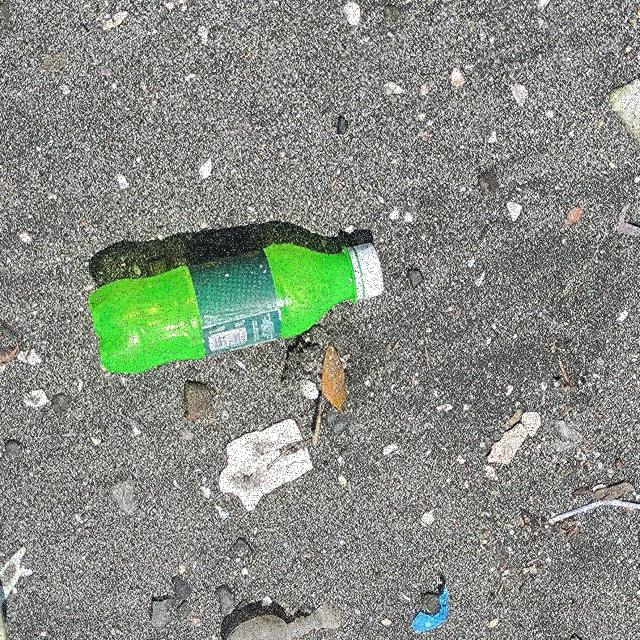plastic_waste: (89, 244, 385, 374)
